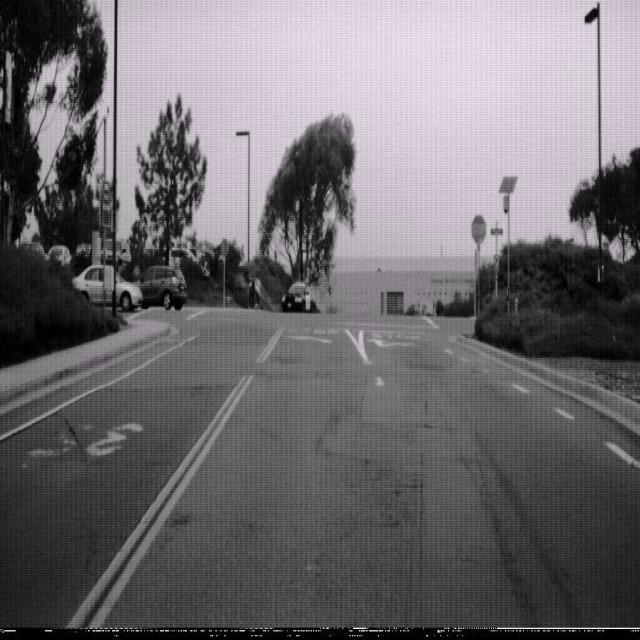stop_sign: (471, 214, 487, 246)
